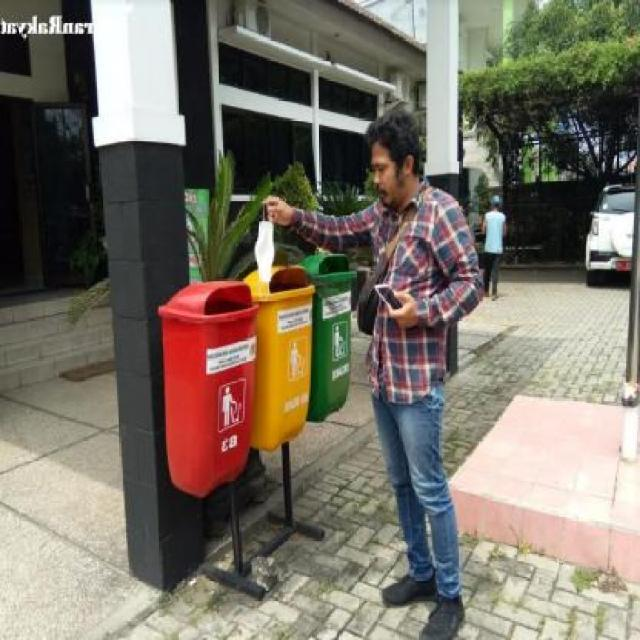garbage container: (142, 278, 261, 492), (305, 250, 358, 438)
